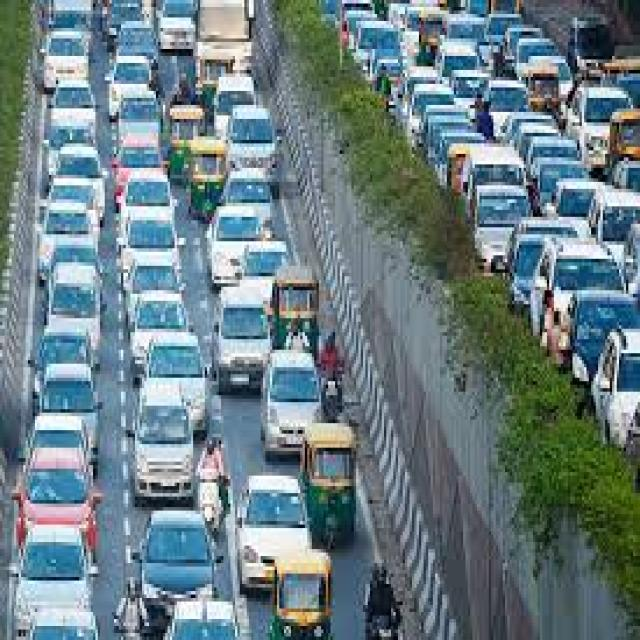Vehicles: (131, 500, 235, 640), (240, 469, 332, 625), (0, 432, 113, 553), (440, 115, 540, 248), (252, 538, 373, 640), (284, 412, 366, 548), (520, 219, 606, 343), (18, 508, 94, 640), (126, 391, 207, 514), (143, 336, 230, 444), (204, 289, 278, 405), (192, 5, 280, 99), (228, 210, 306, 304), (204, 178, 282, 272), (38, 353, 106, 447), (220, 102, 289, 178), (513, 48, 573, 134), (48, 171, 119, 242), (266, 282, 330, 358), (414, 58, 474, 138), (170, 112, 227, 195), (48, 50, 108, 128), (119, 175, 192, 239), (41, 305, 97, 380), (57, 112, 102, 203), (131, 286, 174, 381), (116, 262, 196, 312), (394, 0, 457, 58), (53, 213, 95, 294), (600, 89, 640, 174), (38, 265, 92, 327), (136, 214, 184, 282), (130, 122, 178, 187), (454, 0, 519, 45), (115, 58, 158, 116), (158, 9, 202, 65), (339, 1, 381, 57), (614, 40, 640, 101)
